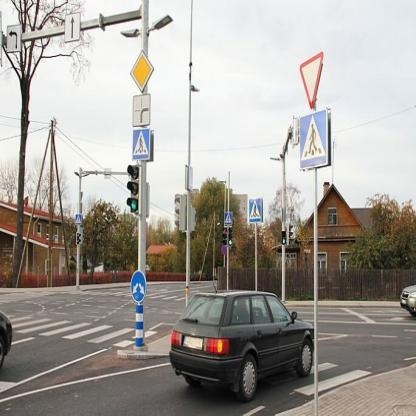off traffic light: (288, 225, 295, 245), (76, 233, 82, 244)
road_sign: (300, 109, 328, 168), (299, 51, 324, 109), (130, 51, 154, 92), (132, 94, 150, 126), (132, 128, 150, 160), (131, 271, 146, 302), (249, 198, 262, 222)
traffic light: (127, 165, 139, 214), (227, 227, 233, 247), (222, 227, 228, 246), (281, 231, 286, 244)
